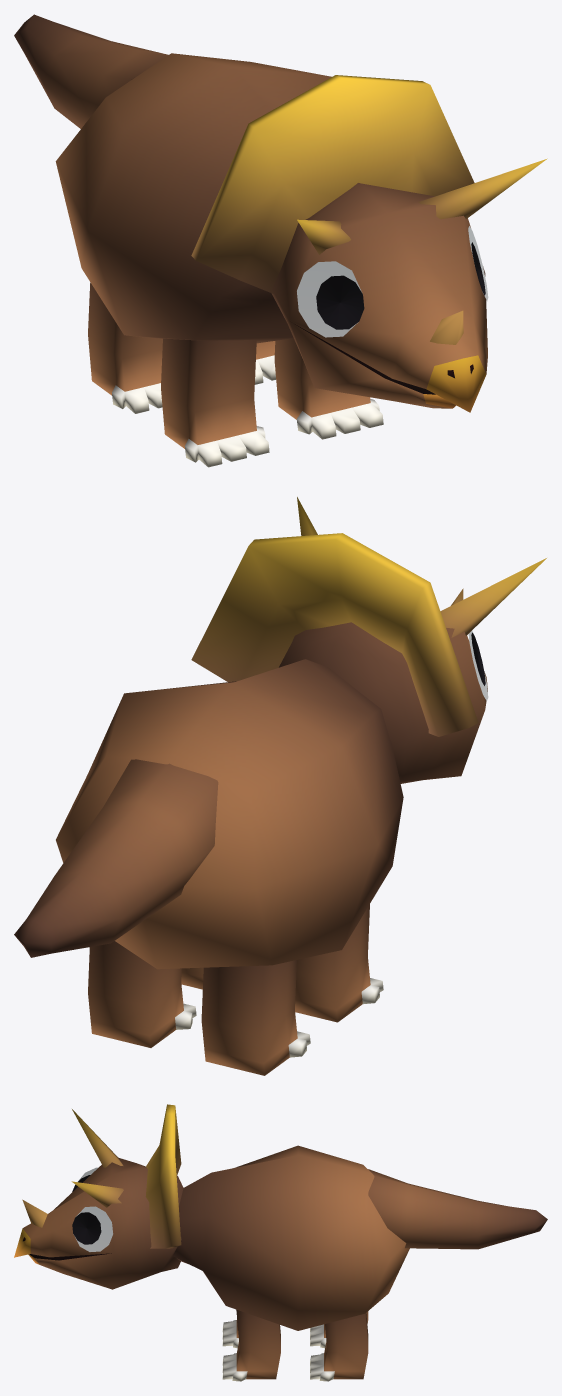
The model's file is gob_triceratops.fbx.
3 views of the same model, one above another, from view 1: azimuth 30°, elevation 25°; view 2: azimuth 150°, elevation 25°; view 3: azimuth 270°, elevation 25° (orthographic). The views are drawn at different scales.
Visible parts, largest first — view 1: Triceratops; view 2: Triceratops; view 3: Triceratops.
Part boxes in pixels (x1=…): Triceratops: x1=14, y1=14, x2=547, y2=467; Triceratops: x1=14, y1=497, x2=546, y2=1075; Triceratops: x1=14, y1=1104, x2=547, y2=1381.
Size of the model in its own units: 339 by 448 by 903.
Materials: 1 (1 with a texture image).
